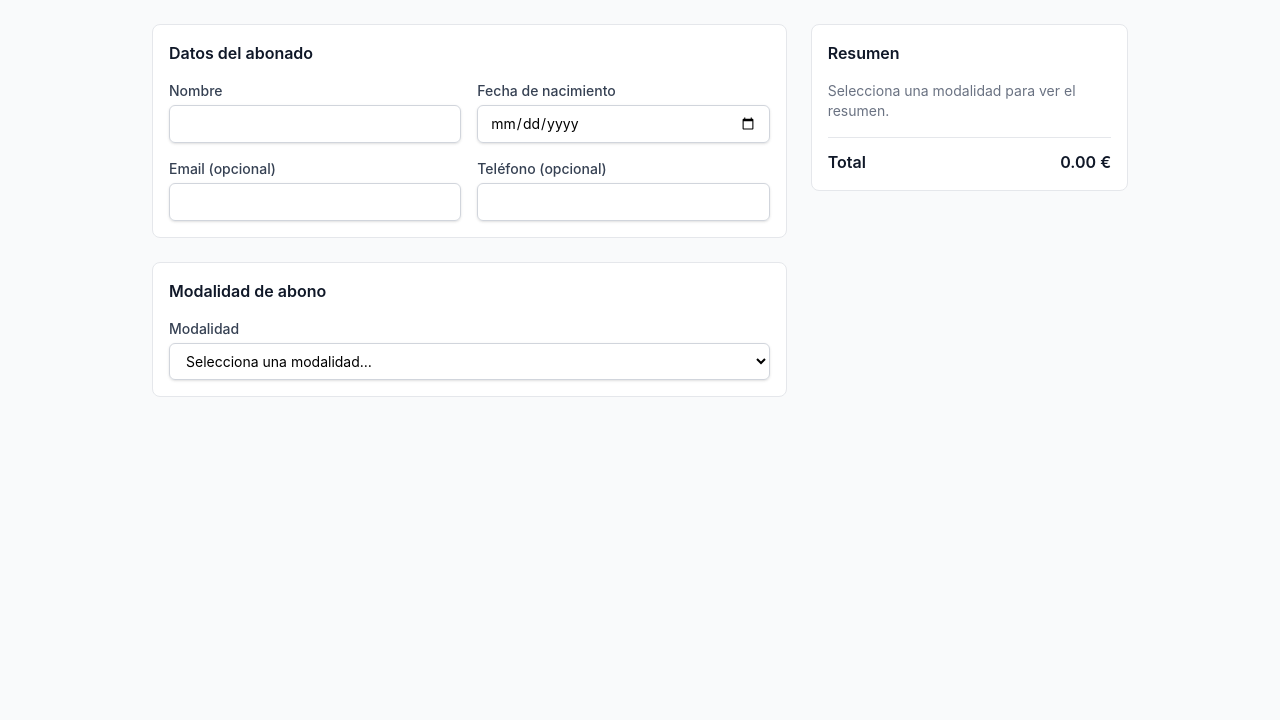
it: QuoteForm (integración) › para monthly_premium, muestra el selector de fecha/meses en vez de descuentos
Select "Premium Mensual (según temporada)" in the dropdown labelled "Modalidad" at (469, 362), box [169, 343, 770, 380]
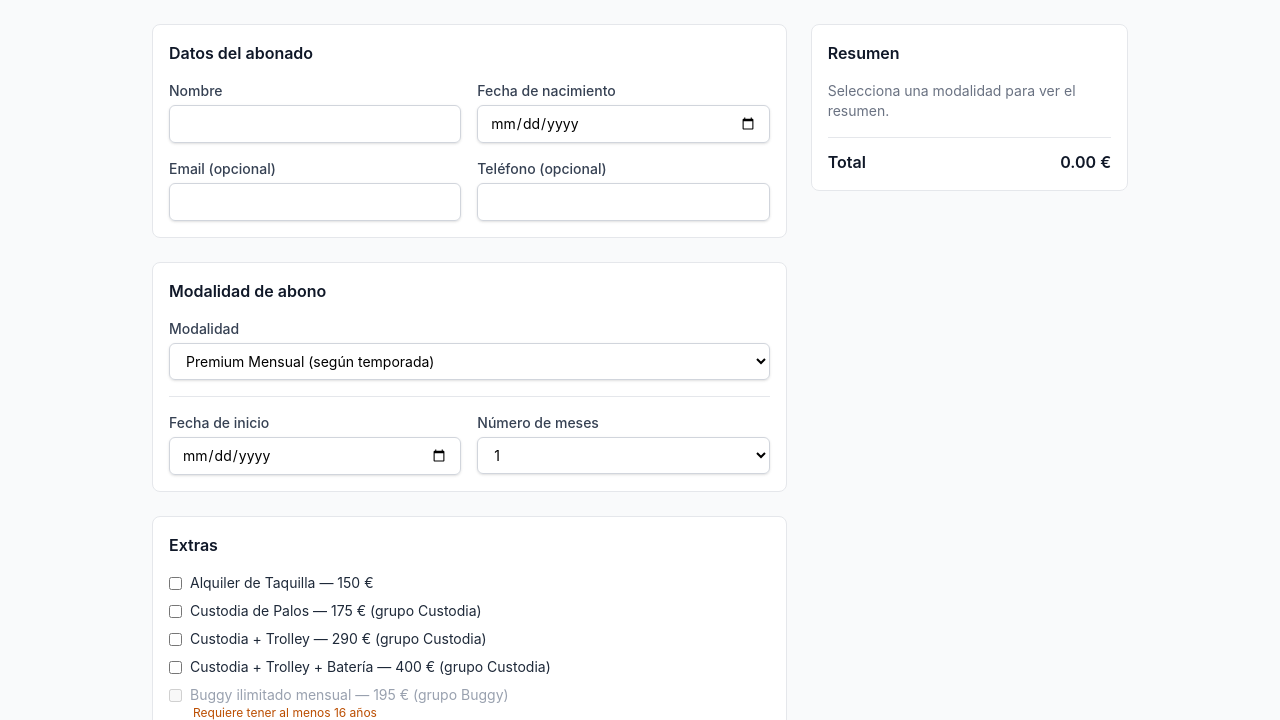
Check: the date field labelled "Fecha de inicio" is shown, box [169, 437, 461, 475]
